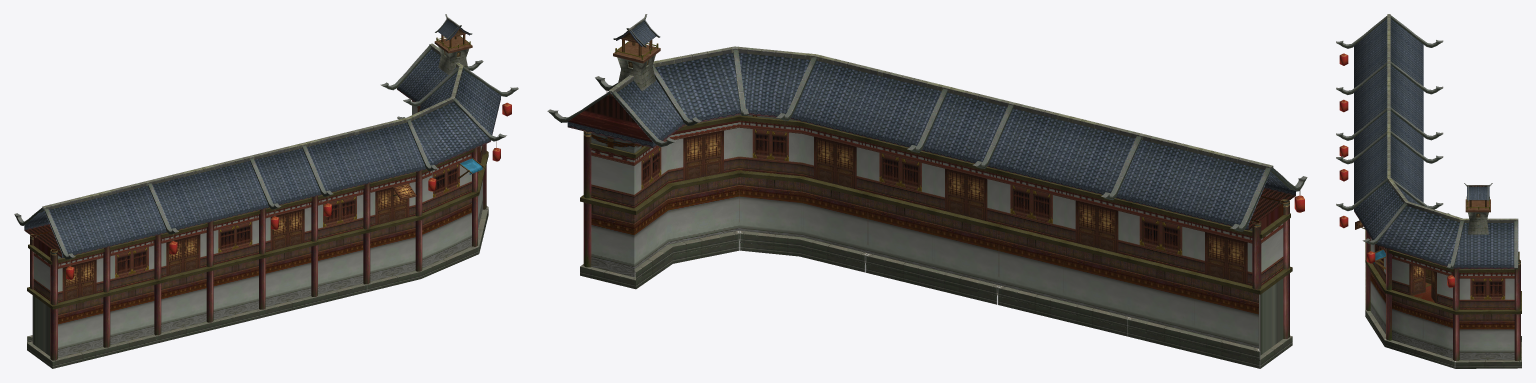
The model's file is Yland3_fzi_06 Yland3.FBX.
The picture shows the model from 3 angles, left to right: view 1: azimuth 30°, elevation 25°; view 2: azimuth 150°, elevation 25°; view 3: azimuth 270°, elevation 25°; orthographic projection. The views are drawn at different scales.
Parts seen in each view (by area): view 1: Yland3_fzi_06 Yland3; view 2: Yland3_fzi_06 Yland3; view 3: Yland3_fzi_06 Yland3.
Part boxes in pixels (bbox=[...]): Yland3_fzi_06 Yland3: bbox=[14, 14, 518, 368]; Yland3_fzi_06 Yland3: bbox=[547, 14, 1307, 368]; Yland3_fzi_06 Yland3: bbox=[1336, 14, 1521, 368].
Bounding box in the file's own units: 16.13 × 5.75 × 5.52.
